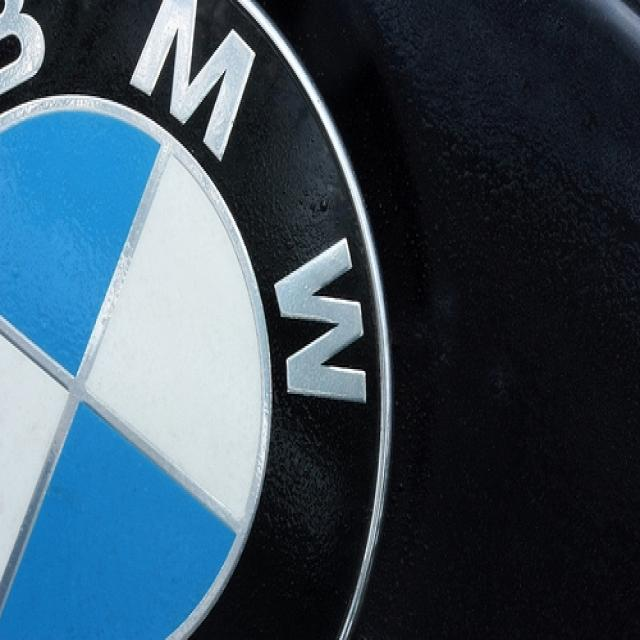bmw: (2, 3, 398, 639)
